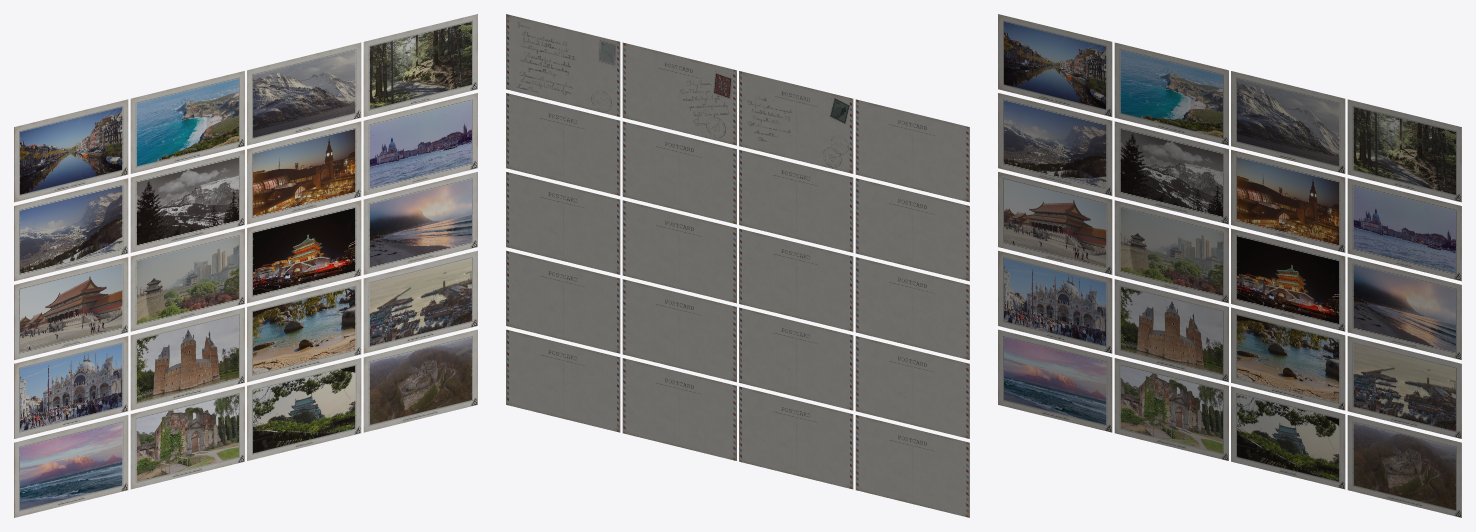
The model's file is postcard_set_01_4k.fbx.
3 renders of one model, left to right at view 1: azimuth 30°, elevation 25°; view 2: azimuth 150°, elevation 25°; view 3: azimuth 330°, elevation 25°, orthographic.
Parts seen in each view (by area): view 1: postcard_01, postcard_03, postcard_05, postcard_16, postcard_18, postcard_20, postcard_07, postcard_10, postcard_11, postcard_14, postcard_08, postcard_09 (+8 smaller); view 2: postcard_01, postcard_03, postcard_05, postcard_16, postcard_18, postcard_20, postcard_07, postcard_10, postcard_11, postcard_14, postcard_08, postcard_09 (+8 smaller); view 3: postcard_02, postcard_04, postcard_08, postcard_13, postcard_17, postcard_19, postcard_06, postcard_10, postcard_11, postcard_15, postcard_05, postcard_09 (+8 smaller).
Boxes of the visible parts, <box> form: postcard_01: <box>14,99,128,202</box>; postcard_03: <box>247,42,361,145</box>; postcard_05: <box>14,178,128,281</box>; postcard_16: <box>363,250,477,353</box>; postcard_18: <box>130,386,244,489</box>; postcard_20: <box>363,329,477,432</box>; postcard_07: <box>247,121,361,224</box>; postcard_10: <box>130,228,244,331</box>; postcard_11: <box>247,200,361,303</box>; postcard_14: <box>130,307,244,410</box>; postcard_08: <box>363,93,477,195</box>; postcard_09: <box>14,257,128,359</box>; postcard_01: <box>855,99,969,202</box>; postcard_03: <box>622,42,736,145</box>; postcard_05: <box>855,178,969,281</box>; postcard_16: <box>506,250,620,353</box>; postcard_18: <box>739,386,853,489</box>; postcard_20: <box>506,329,620,432</box>; postcard_07: <box>622,121,736,224</box>; postcard_10: <box>739,228,853,331</box>; postcard_11: <box>622,200,736,303</box>; postcard_14: <box>739,307,853,410</box>; postcard_08: <box>506,93,620,195</box>; postcard_09: <box>855,257,969,359</box>; postcard_02: <box>1114,42,1228,145</box>; postcard_04: <box>1347,99,1461,202</box>; postcard_08: <box>1347,178,1461,281</box>; postcard_13: <box>998,250,1112,353</box>; postcard_17: <box>998,329,1112,432</box>; postcard_19: <box>1231,386,1345,489</box>; postcard_06: <box>1114,121,1228,224</box>; postcard_10: <box>1114,200,1228,303</box>; postcard_11: <box>1231,228,1345,331</box>; postcard_15: <box>1231,307,1345,410</box>; postcard_05: <box>998,93,1112,195</box>; postcard_09: <box>998,172,1112,274</box>.
Bounding box in the file's own units: 67.67 × 54.5 × 0.0137.
